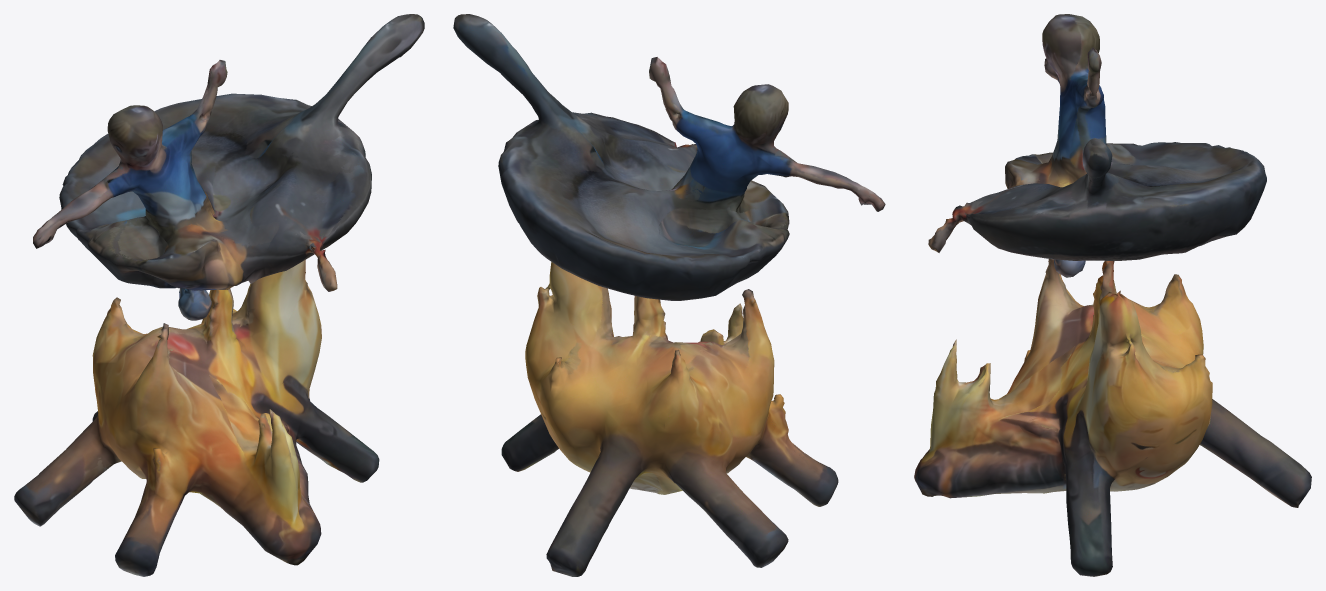
File: 019118bd-f86b-71ca-9605-4443b7bf7432_glb.glb
3 renders of one model, left to right at view 1: azimuth 30°, elevation 25°; view 2: azimuth 150°, elevation 25°; view 3: azimuth 270°, elevation 25°, orthographic. The views are drawn at different scales.
Size of the model in its own units: 1.15 by 1.2 by 0.9383.
Materials: 1 (1 with a texture image).
